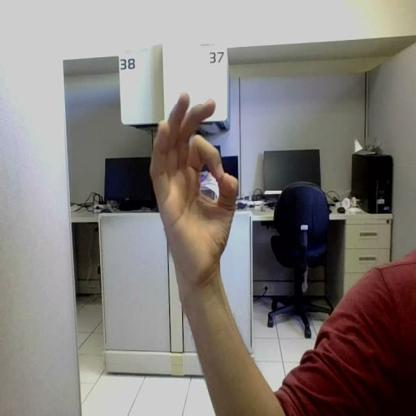F: (150, 92, 237, 274)
